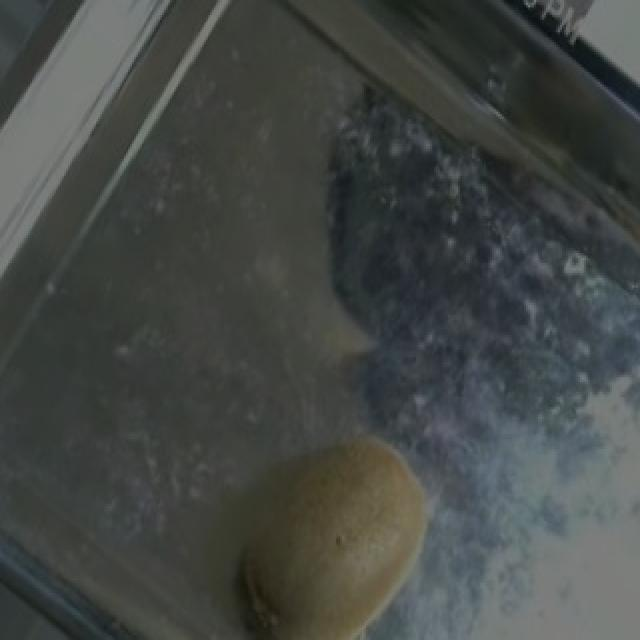Fruit: (208, 414, 452, 640)
